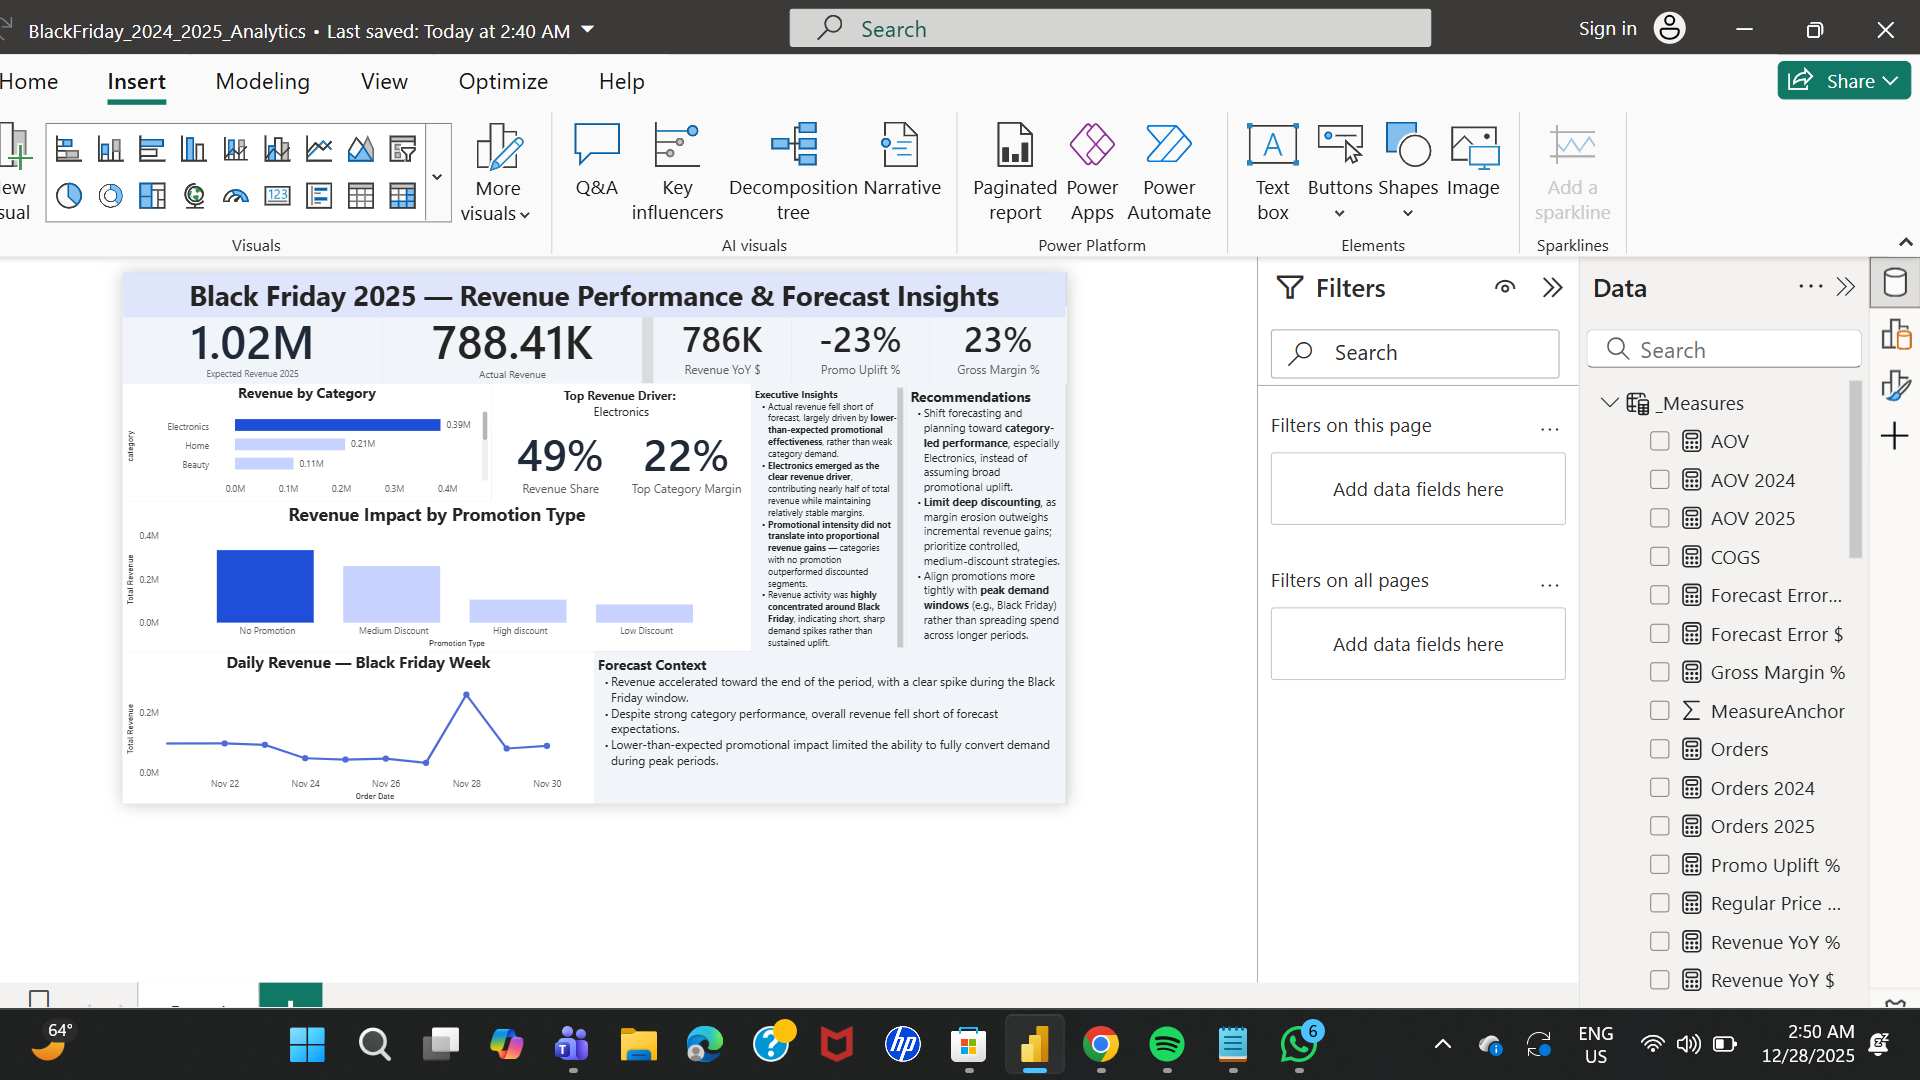

Layout of this report page (visuals, bound fields, positions):
{"tool":"powerbi","page":{"name":"Page 1","canvas":[1280,720],"ordinal":0},"visuals":[{"type":"card","fields":{"Values":["_Measures.Promo Uplift %"]},"box":[906.5,45.7,187,104.3],"z":0},{"type":"card","fields":{"Values":["_Measures.Gross Margin %"]},"box":[1093.5,45.7,187,104.3],"z":1000},{"type":"lineChart","title":"Daily Revenue — Black Friday Week","fields":{"Y":["_Measures.Total Revenue"],"Category":["fact_orders.Order Date"]},"box":[0,513,639.1,206.5],"z":2000},{"type":"clusteredBarChart","title":"Revenue by Category","fields":{"Category":["dim_products.category"],"Y":["_Measures.Total Revenue"]},"box":[0,150,500,160.9],"z":3000},{"type":"card","fields":{"Values":["Metric.Actual Revenue"]},"box":[352.2,45.7,352.2,104.3],"z":6000},{"type":"card","fields":{"Values":["Metric.Expected Revenue 2025"]},"box":[0,45.7,352.2,104.3],"z":7000},{"type":"card","fields":{"Values":["_Measures.Revenue YoY $"]},"box":[719.6,45.7,187,104.3],"z":8000},{"type":"textbox","box":[852.2,150,210.9,363],"z":10000},{"type":"textbox","box":[1063,150,215.2,363],"z":11000},{"type":"textbox","box":[500,150,352.2,60.9],"z":11002},{"type":"card","fields":{"Values":["Metric.Top Category Contribution %"]},"box":[500,195.7,187,115.2],"z":11003},{"type":"clusteredColumnChart","title":"Revenue Impact by Promotion Type","fields":{"Y":["_Measures.Total Revenue"],"Category":["fact_orders.Promotion Type"]},"box":[0,310.9,852.2,202.2],"z":11005},{"type":"textbox","box":[639.1,513,639.1,206.5],"z":11006},{"type":"card","fields":{"Values":["Metric.Top Category Gross Margin %"]},"box":[676.1,195.7,176.1,115.2],"z":11007},{"type":"textbox","box":[0,0,1278.3,60.9],"z":11008}]}

Visuals, with their boxes on the page's 1280x720 design canvas (x1, y1, x2, y2). These are canvas units, not pixel positions in the 1920x1080 screenshot, which may show the page scaled, cropped or inside an application window:
card - _Measures.Promo Uplift %: {"x1": 906, "y1": 46, "x2": 1094, "y2": 150}
card - _Measures.Gross Margin %: {"x1": 1094, "y1": 46, "x2": 1280, "y2": 150}
"Daily Revenue — Black Friday Week" lineChart: {"x1": 0, "y1": 513, "x2": 639, "y2": 720}
"Revenue by Category" clusteredBarChart: {"x1": 0, "y1": 150, "x2": 500, "y2": 311}
card - Metric.Actual Revenue: {"x1": 352, "y1": 46, "x2": 704, "y2": 150}
card - Metric.Expected Revenue 2025: {"x1": 0, "y1": 46, "x2": 352, "y2": 150}
card - _Measures.Revenue YoY $: {"x1": 720, "y1": 46, "x2": 907, "y2": 150}
textbox: {"x1": 852, "y1": 150, "x2": 1063, "y2": 513}
textbox: {"x1": 1063, "y1": 150, "x2": 1278, "y2": 513}
textbox: {"x1": 500, "y1": 150, "x2": 852, "y2": 211}
card - Metric.Top Category Contribution %: {"x1": 500, "y1": 196, "x2": 687, "y2": 311}
"Revenue Impact by Promotion Type" clusteredColumnChart: {"x1": 0, "y1": 311, "x2": 852, "y2": 513}
textbox: {"x1": 639, "y1": 513, "x2": 1278, "y2": 720}
card - Metric.Top Category Gross Margin %: {"x1": 676, "y1": 196, "x2": 852, "y2": 311}
textbox: {"x1": 0, "y1": 0, "x2": 1278, "y2": 61}
